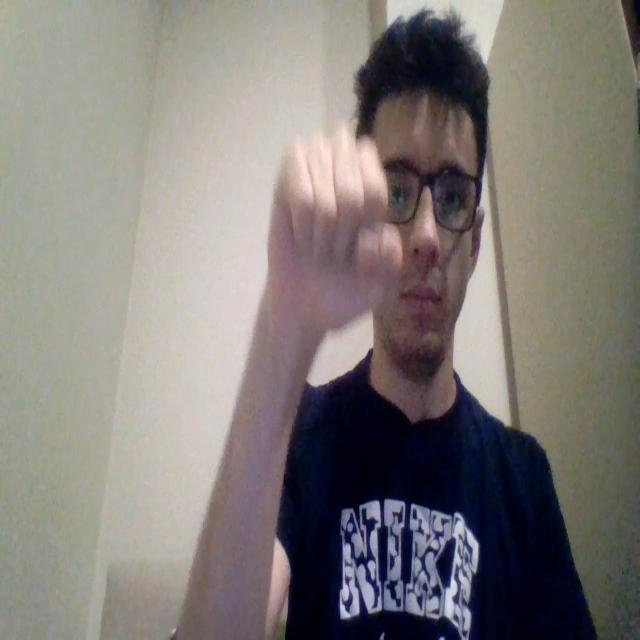yes: (266, 122, 402, 333)
